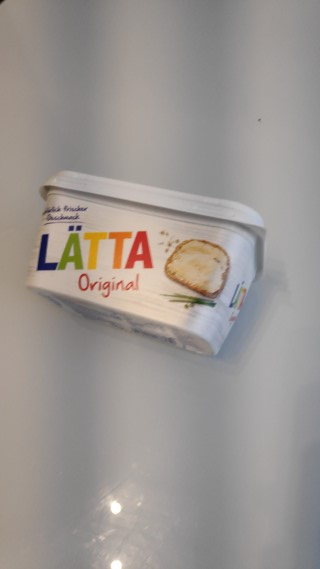laetta: (23, 169, 268, 359)
